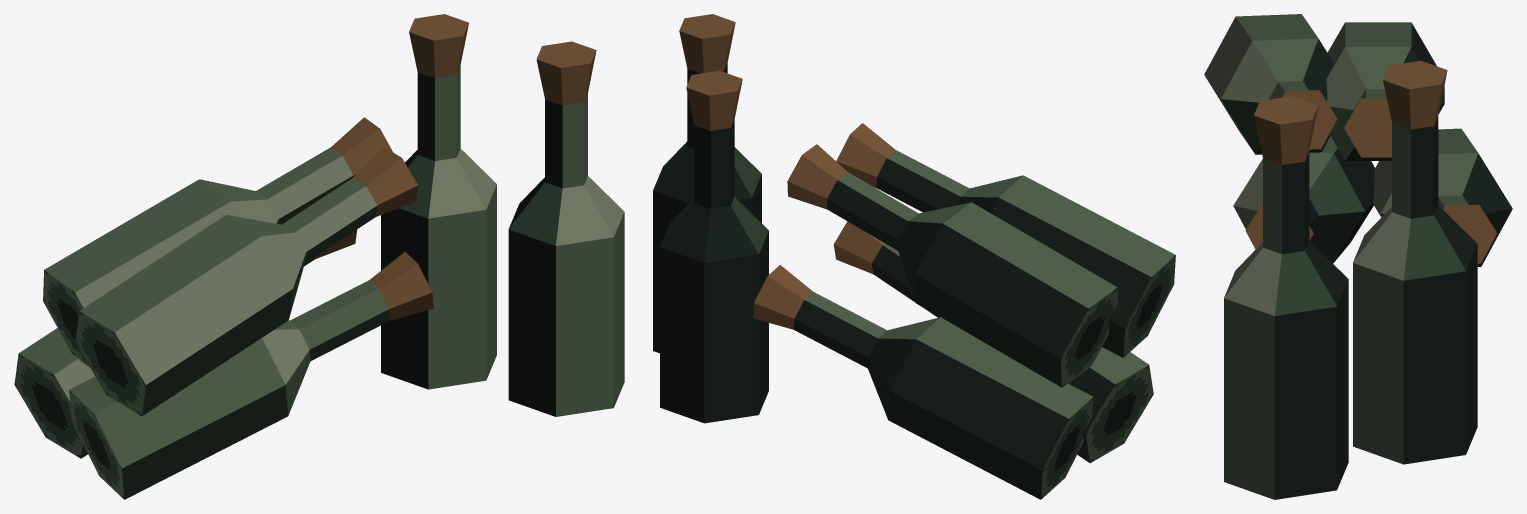
Rendered from fuellung_flaschen_b_gruen.glb.
3 renders of one model, left to right at view 1: azimuth 30°, elevation 25°; view 2: azimuth 150°, elevation 25°; view 3: azimuth 270°, elevation 25°, orthographic. The views are drawn at different scales.
Parts seen in each view (by area): view 1: flaschen_b_gruen; view 2: flaschen_b_gruen; view 3: flaschen_b_gruen.
Part boxes in pixels (<box>): flaschen_b_gruen: <box>14,14,624,499</box>; flaschen_b_gruen: <box>653,14,1175,499</box>; flaschen_b_gruen: <box>1204,14,1512,499</box>.
Size of the model in its own units: 0.5919 by 0.3575 by 0.2764.
1 material, 1 textured.
